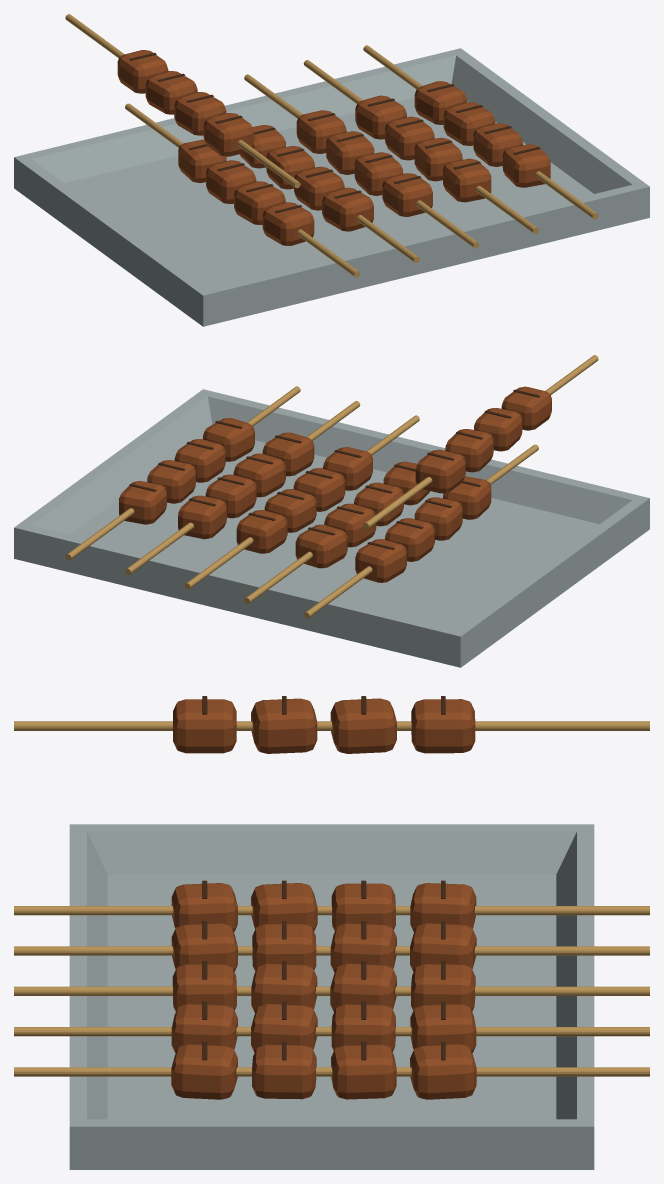
Rendered from satay-skewer-display-reopened-edit.glb.
The picture shows the model from 3 angles, top to bottom: view 1: azimuth 30°, elevation 25°; view 2: azimuth 150°, elevation 25°; view 3: azimuth 270°, elevation 25°; orthographic projection. The views are drawn at different scales.
Visible parts, largest first — view 1: CONTEXT_Tray_Reuse439, GRILLED_1_0, GRILLED_2_0, GRILLED_3_0, GRILLED_0_0, GRILLED_4_0, GRILLED_5_0, GRILLED_5_2, GRILLED_5_3, GRILLED_0_2, GRILLED_0_1, GRILLED_4_3 (+19 smaller); view 2: CONTEXT_Tray_Reuse439, GRILLED_2_3, GRILLED_1_3, GRILLED_3_3, GRILLED_0_3, GRILLED_4_3, GRILLED_5_3, GRILLED_4_1, GRILLED_5_0, GRILLED_3_2, GRILLED_3_1, GRILLED_4_0 (+19 smaller); view 3: CONTEXT_Tray_Reuse439, BAMBOO_0, BAMBOO_5, BAMBOO_3, BAMBOO_4, BAMBOO_2, BAMBOO_1, GRILLED_5_0, GRILLED_0_1, GRILLED_5_3, GRILLED_5_2, GRILLED_0_2 (+19 smaller).
Boxes of the visible parts, bbox=[...] form: CONTEXT_Tray_Reuse439: bbox=[14, 48, 649, 326]; GRILLED_1_0: bbox=[262, 202, 314, 245]; GRILLED_2_0: bbox=[322, 187, 373, 231]; GRILLED_3_0: bbox=[382, 173, 432, 216]; GRILLED_0_0: bbox=[203, 113, 253, 156]; GRILLED_4_0: bbox=[443, 158, 491, 202]; GRILLED_5_0: bbox=[502, 144, 550, 187]; GRILLED_5_2: bbox=[443, 102, 495, 145]; GRILLED_5_3: bbox=[414, 81, 466, 124]; GRILLED_0_2: bbox=[145, 71, 197, 114]; GRILLED_0_1: bbox=[174, 92, 226, 135]; GRILLED_4_3: bbox=[355, 95, 406, 139]; CONTEXT_Tray_Reuse439: bbox=[14, 389, 649, 667]; GRILLED_2_3: bbox=[295, 524, 347, 568]; GRILLED_1_3: bbox=[355, 539, 406, 582]; GRILLED_3_3: bbox=[236, 510, 287, 553]; GRILLED_0_3: bbox=[415, 449, 465, 493]; GRILLED_4_3: bbox=[178, 495, 226, 539]; GRILLED_5_3: bbox=[119, 481, 166, 524]; GRILLED_4_1: bbox=[233, 453, 285, 497]; GRILLED_5_0: bbox=[203, 418, 254, 461]; GRILLED_3_2: bbox=[264, 489, 316, 532]; GRILLED_3_1: bbox=[293, 468, 345, 511]; GRILLED_4_0: bbox=[262, 432, 314, 476]; CONTEXT_Tray_Reuse439: bbox=[69, 824, 594, 1169]; BAMBOO_0: bbox=[14, 721, 649, 730]; BAMBOO_5: bbox=[14, 1067, 649, 1076]; BAMBOO_3: bbox=[14, 986, 649, 995]; BAMBOO_4: bbox=[14, 1027, 649, 1036]; BAMBOO_2: bbox=[14, 946, 649, 955]; BAMBOO_1: bbox=[14, 906, 649, 915]; GRILLED_5_0: bbox=[171, 1044, 237, 1099]; GRILLED_0_1: bbox=[251, 698, 317, 753]; GRILLED_5_3: bbox=[410, 1044, 476, 1099]; GRILLED_5_2: bbox=[331, 1044, 396, 1099]; GRILLED_0_2: bbox=[330, 698, 396, 753].
Bounding box in the file's own units: 0.45 × 0.148 × 0.4.
